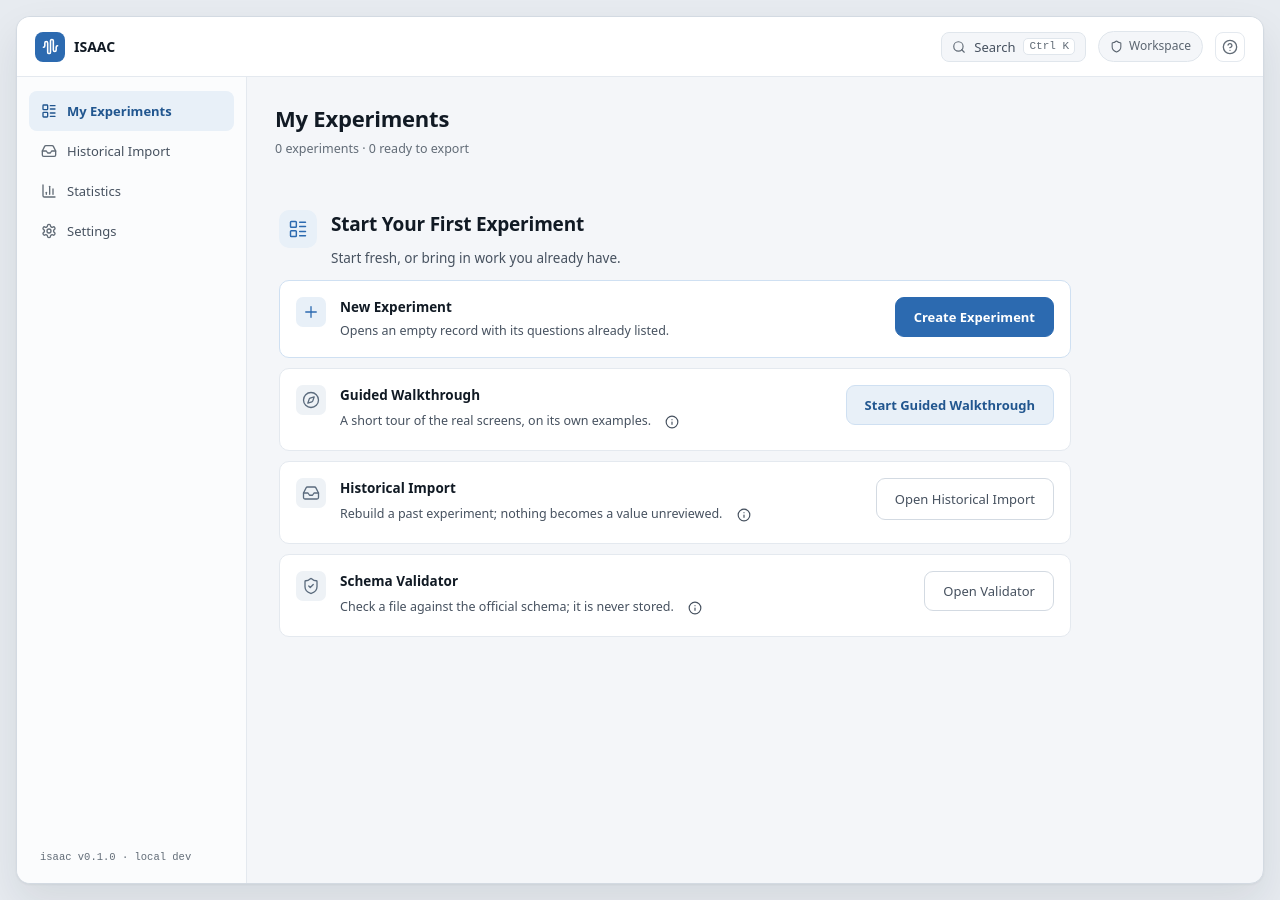
Scenario: D1 · leaving a worked-example session does not leave its record on screen › the scope is dropped in the same tick as the state, not a round trip later
Click the button "Start Guided Walkthrough": [950, 405] box 846,385 -> 1054,425
(page scrolled)
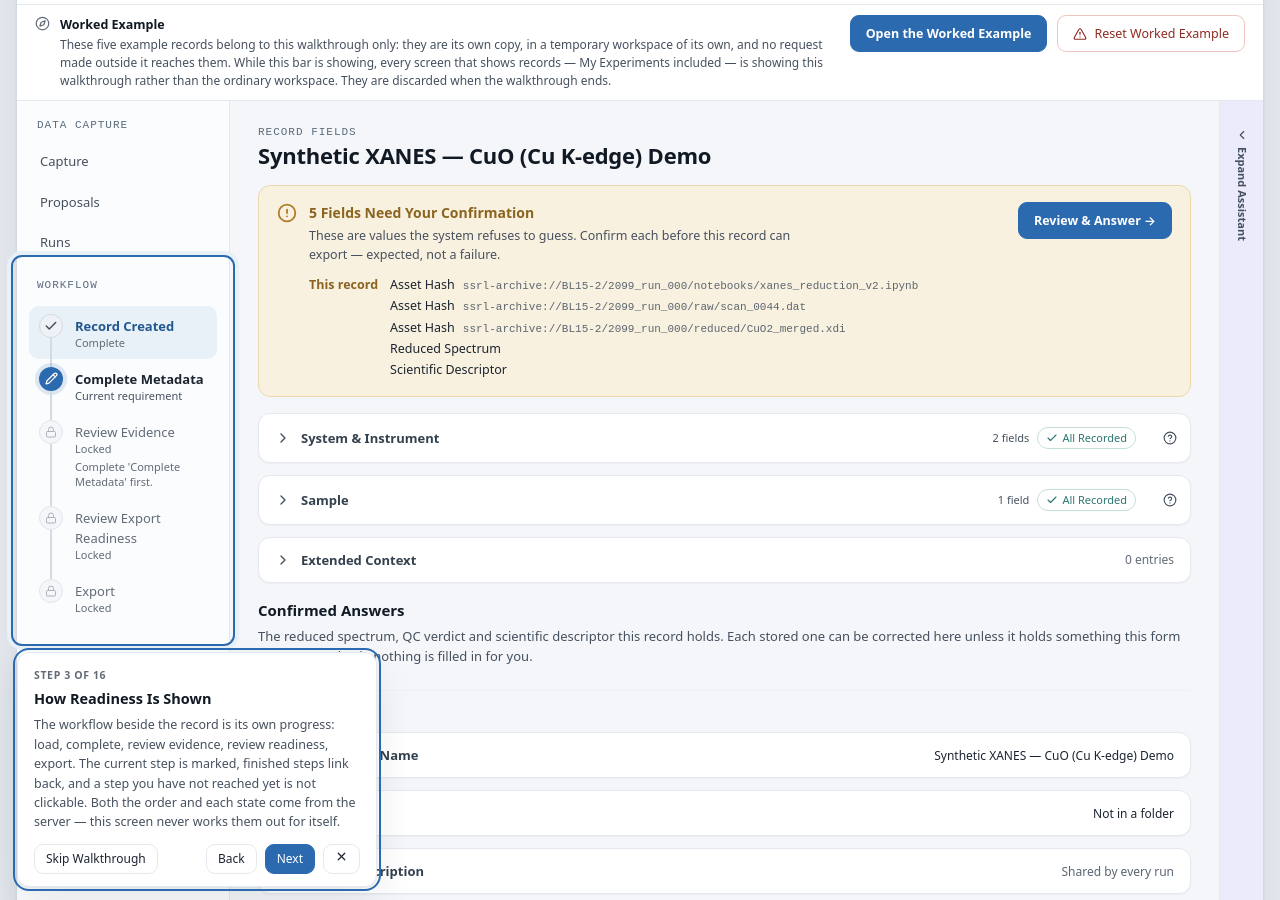
Expected: the text "5 Fields Need Your Confirmation" is shown, 309,203 -> 534,222
Click the button named "Close Walkthrough": [342, 859] box 323,844 -> 360,874
(page scrolled)
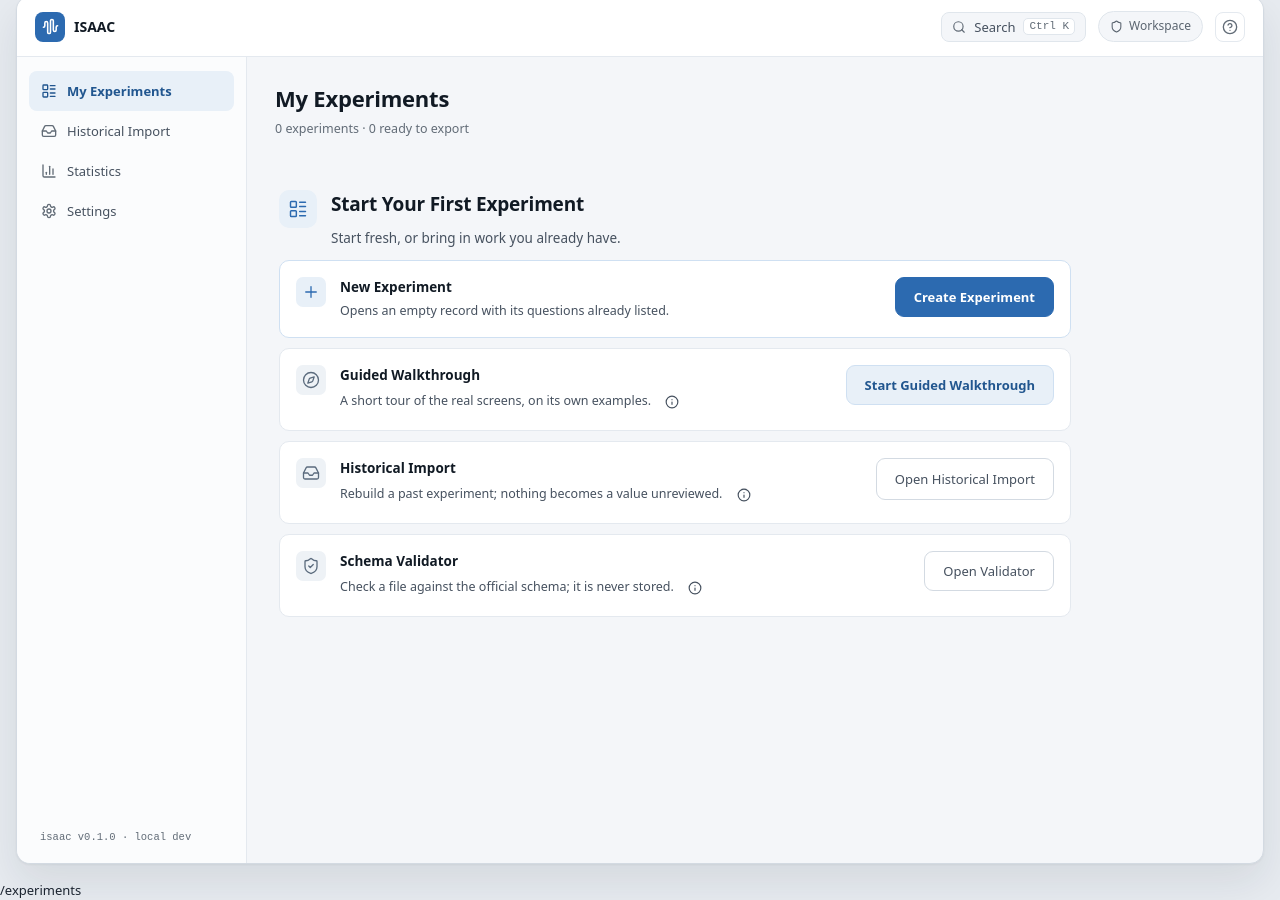
Expected: the text with test id "location" reads "/experiments", 0,881 -> 81,899
Expected: the element with class "needsyou-banner" is gone
